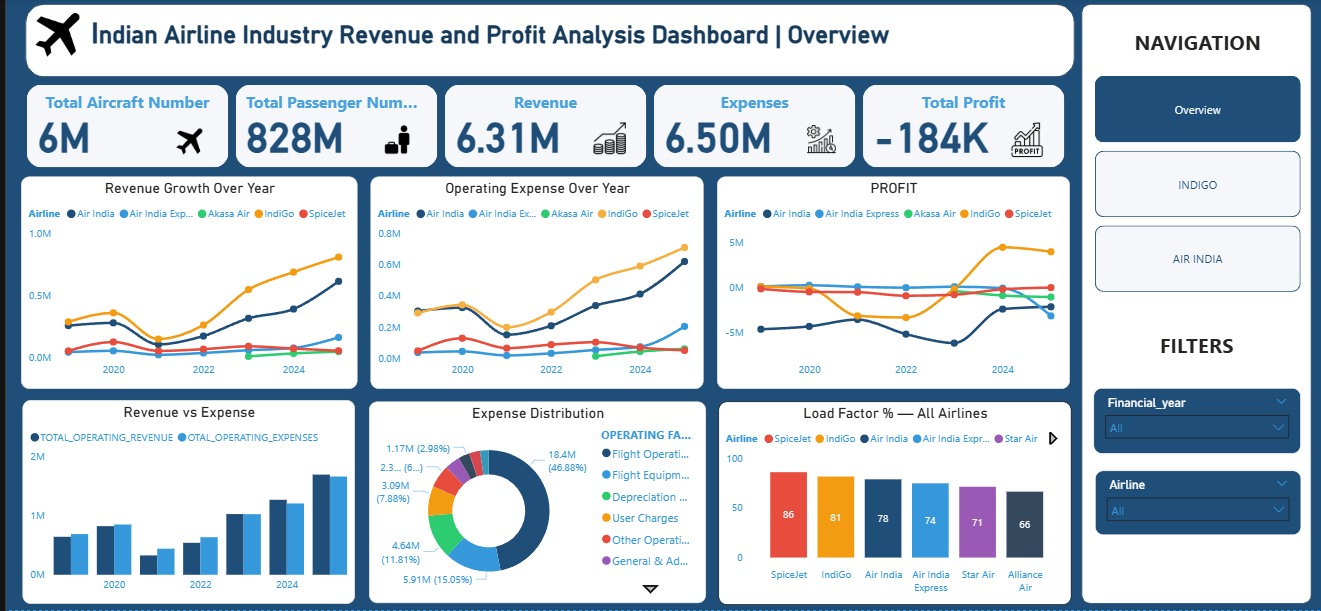

This screenshot's page, from the dashboard's own definition file:
{"tool":"powerbi","page":{"name":"Overview","canvas":[1550,720],"ordinal":0},"visuals":[{"type":"cardVisual","fields":{"Data":["Sum(Yearly_traffic&finance.Total_Aircraft_Number)","Sum(Yearly_traffic&finance.Total_Passenger_Number)","Sum(Yearly_traffic&finance.TOTAL_OPERATING_REVENUEM)","Sum(Yearly_traffic&finance.TOTAL_OPERATING_EXPENSESM)","AIR INDIA AND INDIGO.Total Profit"]},"box":[19.3,96.3,1238.5,107.8],"z":0},{"type":"lineChart","title":"Revenue Growth Over Year","fields":{"Y":["Sum(Yearly_traffic&finance.TOTAL_OPERATING_REVENUEM)"],"Category":["Yearly_traffic&finance.Financial_year"],"Series":["Yearly_traffic&finance.Airline"]},"box":[18,209.6,396.1,250.2],"z":1000},{"type":"lineChart","title":"Operating Expense Over Year","fields":{"Category":["Yearly_traffic&finance.Financial_year"],"Y":["Sum(Yearly_traffic&finance.TOTAL_OPERATING_EXPENSESM)"],"Series":["Yearly_traffic&finance.Airline"]},"box":[429.8,210.1,391.9,250],"z":2000},{"type":"lineChart","title":"PROFIT","fields":{"Category":["finance.Financial_year"],"Y":["Sum(finance.Profit or loss after tax and after extra ordinary items)"],"Series":["finance.Airline"]},"box":[837.4,209.6,415.4,250.2],"z":3000},{"type":"clusteredColumnChart","title":"Revenue vs Expense","fields":{"Category":["Yearly_traffic&finance.Financial_year"],"Y":["Sum(Yearly_traffic&finance.TOTAL_OPERATING_REVENUEM)","Sum(Yearly_traffic&finance.TOTAL_OPERATING_EXPENSESM)"]},"box":[19.3,472.3,391.4,240],"z":4000},{"type":"donutChart","title":"Expense Distribution","fields":{"Category":["finance.OPERATING FACTORS"],"Y":["Sum(finance.OPERATING FACTORS VALUES)"]},"box":[427.4,474.9,396.6,237.4],"z":5000},{"type":"image","box":[192.7,147.8,46.4,40.9],"z":6000},{"type":"image","box":[428.8,141,62.8,50.5],"z":7000},{"type":"image","box":[680.9,141.3,57.9,47.7],"z":8000},{"type":"image","box":[924.3,143,69.8,46],"z":9000},{"type":"shape","box":[23.1,6.4,1234.7,86],"z":10000},{"type":"textbox","box":[95,16.7,1087.1,56.5],"z":11000},{"type":"columnChart","title":"Load Factor % — All Airlines","fields":{"Y":["Avg(Yearly_traffic&finance.Load_Factor_percent)"],"Category":["Yearly_traffic&finance.Airline"],"Series":["Yearly_traffic&finance.Airline"]},"box":[837.8,474.5,415,239],"z":12000},{"type":"image","box":[1438.1,133.7,51.9,55.9],"z":14000},{"type":"image","box":[27,11.6,68,61.6],"z":16000},{"type":"shape","box":[1265.5,7.7,270.8,705.9],"z":17000},{"type":"textbox","box":[1298.8,29.5,206.6,43.6],"z":18000},{"type":"pageNavigator","box":[1282.1,92.4,242.6,256.7],"z":19000},{"type":"textbox","box":[1297.5,386.3,207.9,43.6],"z":20000},{"type":"slicer","fields":{"Values":["year_table.Financial_year"]},"box":[1279.6,459.5,243.9,77],"z":21000},{"type":"slicer","fields":{"Values":["finance.Airline"]},"box":[1280.9,555.7,242.6,75.7],"z":22000},{"type":"image","box":[1171.1,141.3,63,51.1],"z":23000}]}

Visuals, with their boxes in screenshot pixels (x1, y1, x2, y2), scaled from the page's 1550x720 canvas onto the 1321x611 screenshot:
cardVisual - Sum(Yearly_traffic&finance.Total_Aircraft_Number) x Sum(Yearly_traffic&finance.Total_Passenger_Number): box(16, 82, 1072, 173)
"Revenue Growth Over Year" lineChart: box(15, 178, 353, 390)
"Operating Expense Over Year" lineChart: box(366, 178, 700, 390)
"PROFIT" lineChart: box(714, 178, 1068, 390)
"Revenue vs Expense" clusteredColumnChart: box(16, 401, 350, 604)
"Expense Distribution" donutChart: box(364, 403, 702, 604)
image: box(164, 125, 204, 160)
image: box(365, 120, 419, 163)
image: box(580, 120, 630, 160)
image: box(788, 121, 847, 160)
shape: box(20, 5, 1072, 78)
textbox: box(81, 14, 1007, 62)
"Load Factor % — All Airlines" columnChart: box(714, 403, 1068, 605)
image: box(1226, 113, 1270, 161)
image: box(23, 10, 81, 62)
shape: box(1079, 7, 1309, 606)
textbox: box(1107, 25, 1283, 62)
pageNavigator: box(1093, 78, 1299, 296)
textbox: box(1106, 328, 1283, 365)
slicer - year_table.Financial_year: box(1091, 390, 1298, 455)
slicer - finance.Airline: box(1092, 472, 1298, 536)
image: box(998, 120, 1052, 163)
